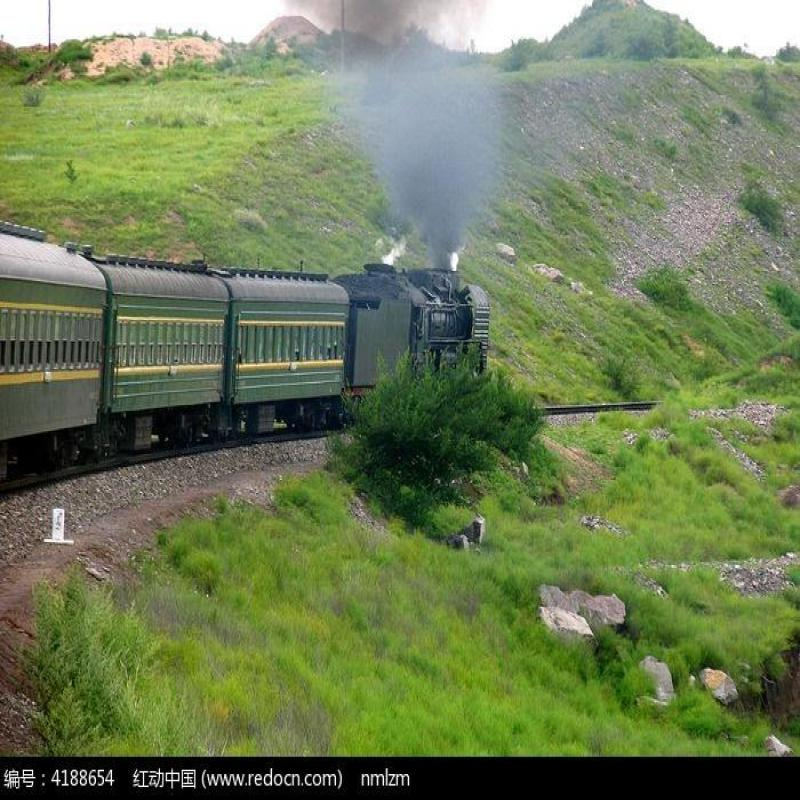train: (29, 199, 517, 434)
